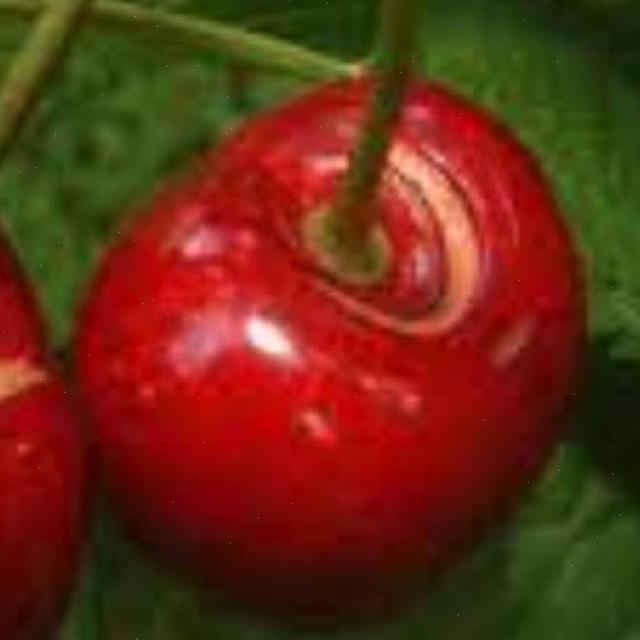Cracking Fruit: (16, 63, 257, 245)
